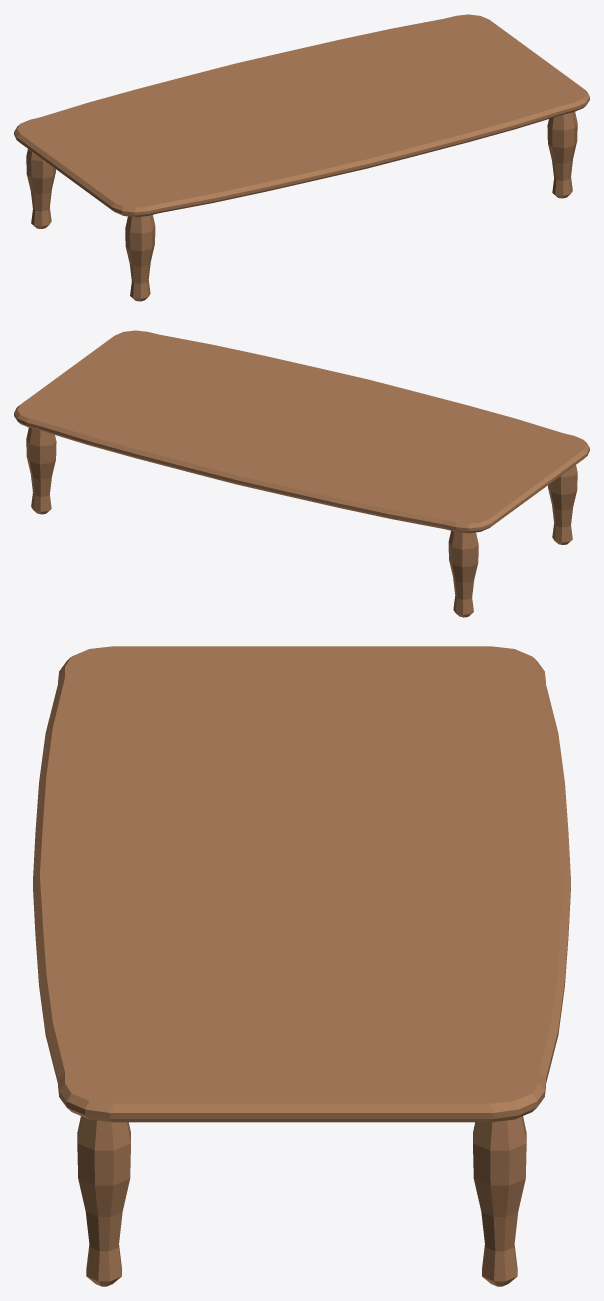
Rendered from KitchenTable.fbx.
3 views of the same model, one above another, from view 1: azimuth 30°, elevation 25°; view 2: azimuth 150°, elevation 25°; view 3: azimuth 270°, elevation 25° (orthographic). The views are drawn at different scales.
Parts seen in each view (by area): view 1: KitchenTable; view 2: KitchenTable; view 3: KitchenTable.
Boxes of the visible parts, x1=… form: KitchenTable: x1=14, y1=14, x2=589, y2=301; KitchenTable: x1=14, y1=330, x2=589, y2=617; KitchenTable: x1=33, y1=646, x2=570, y2=1286.
Bounding box in the file's own units: 2.8 × 0.566 × 1.37.
Materials: 1 (1 with a texture image).
